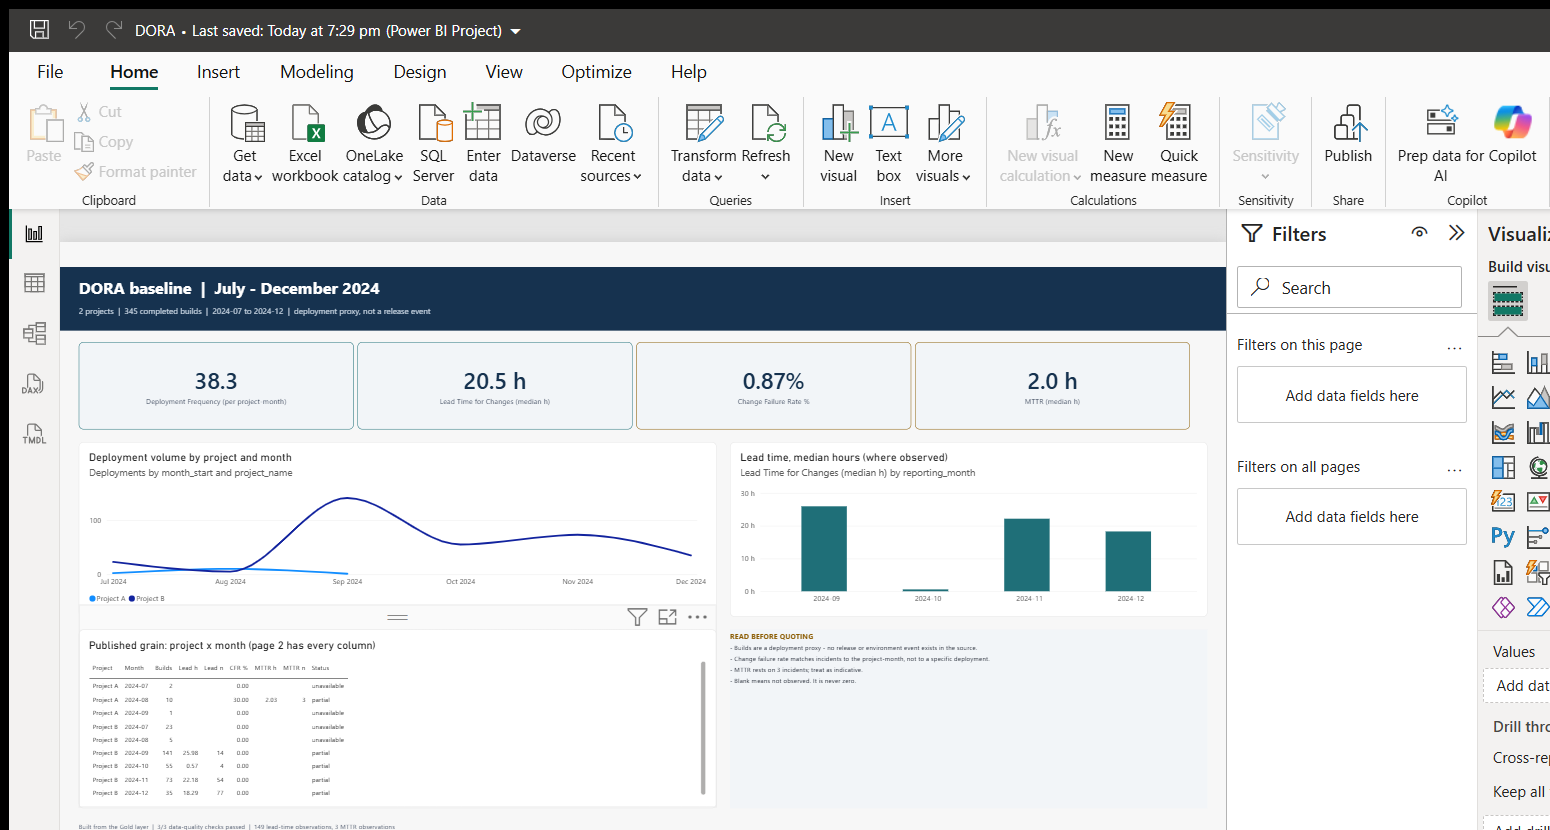

This screenshot's page, from the dashboard's own definition file:
{"tool":"powerbi","page":{"name":"DORA baseline","canvas":[1920,1080],"ordinal":0},"visuals":[{"type":"textbox","box":[0,0,1920,105],"z":0},{"type":"textbox","box":[30,16,1350,46],"z":1},{"type":"textbox","box":[30,62,1860,34],"z":2},{"type":"card","fields":{"Values":["DoraServiceMonth.Deployment Frequency (per project-month)"]},"box":[30,123,453,144],"z":10},{"type":"card","fields":{"Values":["DoraServiceMonth.Lead Time for Changes (median h)"]},"box":[489,123,453,144],"z":11},{"type":"card","fields":{"Values":["DoraServiceMonth.Change Failure Rate %"]},"box":[948,123,453,144],"z":12},{"type":"card","fields":{"Values":["DoraServiceMonth.MTTR (median h)"]},"box":[1407,123,453,144],"z":13},{"type":"lineChart","title":"Deployment volume by project and month","fields":{"Category":["DoraServiceMonth.month_start"],"Series":["DoraServiceMonth.project_name"],"Y":["DoraServiceMonth.Deployments"]},"box":[30,288,1050,288],"z":20},{"type":"columnChart","title":"Lead time, median hours (where observed)","fields":{"Category":["FactCommitLink.reporting_month"],"Y":["DoraServiceMonth.Lead Time for Changes (median h)"]},"box":[1104,288,786,288],"z":21},{"type":"tableEx","title":"Published grain: project x month (page 2 has every column)","fields":{"Values":["DoraServiceMonth.project_name","DoraServiceMonth.reporting_month","DoraServiceMonth.deployment_count","DoraServiceMonth.lead_time_median_hours","DoraServiceMonth.lead_time_sample_size","DoraServiceMonth.change_failure_rate_pct","DoraServiceMonth.mttr_median_hours","DoraServiceMonth.mttr_sample_size","DoraServiceMonth.data_quality_status"]},"box":[30,597,1050,294],"z":22},{"type":"textbox","box":[1104,597,786,294],"z":23},{"type":"textbox","box":[30,909,1860,40],"z":24}]}

Visuals, with their boxes on the page's 1920x1080 design canvas (x1, y1, x2, y2). These are canvas units, not pixel positions in the 1550x830 screenshot, which may show the page scaled, cropped or inside an application window:
textbox: 0, 0, 1920, 105
textbox: 30, 16, 1380, 62
textbox: 30, 62, 1890, 96
card - DoraServiceMonth.Deployment Frequency (per project-month): 30, 123, 483, 267
card - DoraServiceMonth.Lead Time for Changes (median h): 489, 123, 942, 267
card - DoraServiceMonth.Change Failure Rate %: 948, 123, 1401, 267
card - DoraServiceMonth.MTTR (median h): 1407, 123, 1860, 267
"Deployment volume by project and month" lineChart: 30, 288, 1080, 576
"Lead time, median hours (where observed)" columnChart: 1104, 288, 1890, 576
"Published grain: project x month (page 2 has every column)" tableEx: 30, 597, 1080, 891
textbox: 1104, 597, 1890, 891
textbox: 30, 909, 1890, 949
